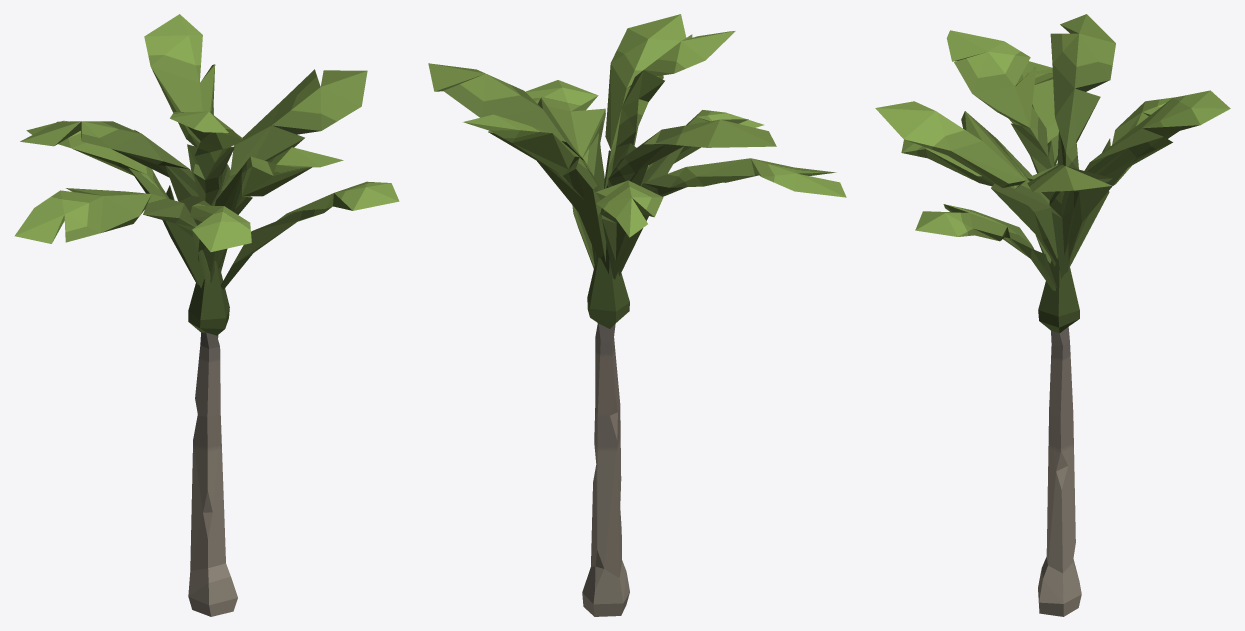
The model's file is SM_Env_Tree_02.fbx.
3 renders of one model, left to right at view 1: azimuth 30°, elevation 25°; view 2: azimuth 150°, elevation 25°; view 3: azimuth 270°, elevation 25°, orthographic. The views are drawn at different scales.
Visible parts, largest first — view 1: SM_Env_Tree_02; view 2: SM_Env_Tree_02; view 3: SM_Env_Tree_02.
Part boxes in pixels (left/top/right/bottom): SM_Env_Tree_02: left=14, top=14, right=399, bottom=616; SM_Env_Tree_02: left=428, top=14, right=846, bottom=616; SM_Env_Tree_02: left=875, top=14, right=1230, bottom=616.
Bounding box in the file's own units: 498 × 683 × 401.
